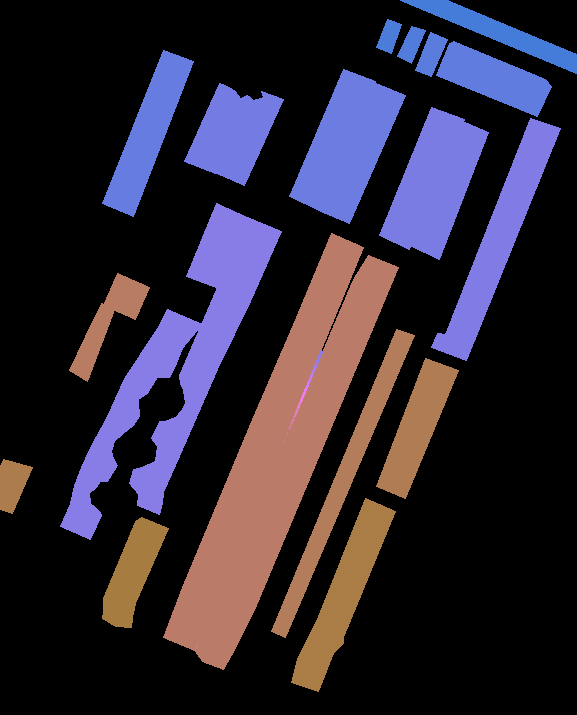parkingspot: (195, 255, 398, 669), (163, 233, 363, 650), (129, 217, 281, 514), (271, 329, 414, 637), (60, 309, 202, 539), (431, 118, 560, 360), (291, 498, 395, 691), (102, 50, 193, 216), (400, 0, 577, 73), (318, 82, 405, 223), (289, 69, 375, 211), (379, 107, 464, 249), (376, 358, 458, 498), (409, 120, 488, 259), (436, 41, 551, 116), (102, 517, 168, 627), (214, 91, 283, 185), (184, 83, 249, 173), (186, 203, 249, 289), (69, 303, 115, 381), (103, 273, 149, 319), (0, 459, 32, 513), (415, 32, 447, 76), (397, 26, 425, 63), (376, 19, 401, 53)
